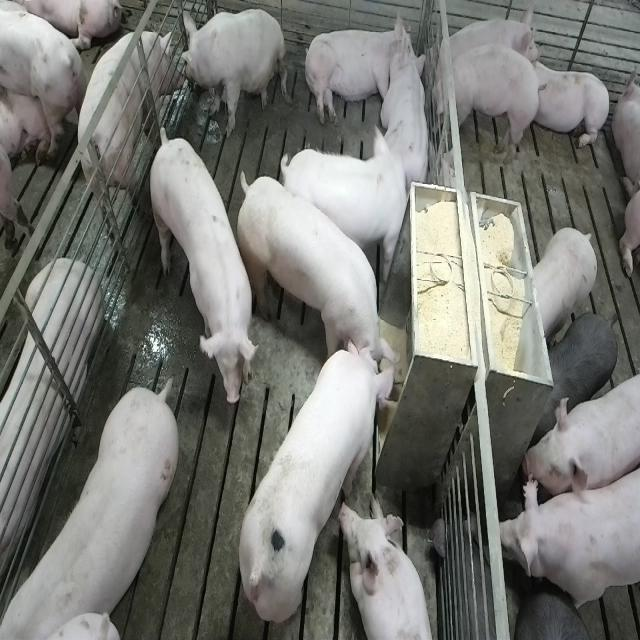Feeding: (236, 337, 400, 625), (231, 164, 400, 383)
Lateral_lying: (302, 11, 419, 128)
Sitting: (178, 7, 286, 138)
Standing: (5, 375, 184, 636), (149, 122, 254, 413), (498, 464, 638, 622), (77, 28, 183, 236), (278, 140, 408, 269), (521, 366, 637, 505), (429, 41, 542, 166), (0, 0, 80, 158), (538, 309, 618, 427), (530, 227, 598, 345)
Sternal_lying: (0, 262, 100, 586), (343, 494, 437, 640), (377, 47, 434, 201), (529, 53, 612, 153), (449, 15, 540, 76)
